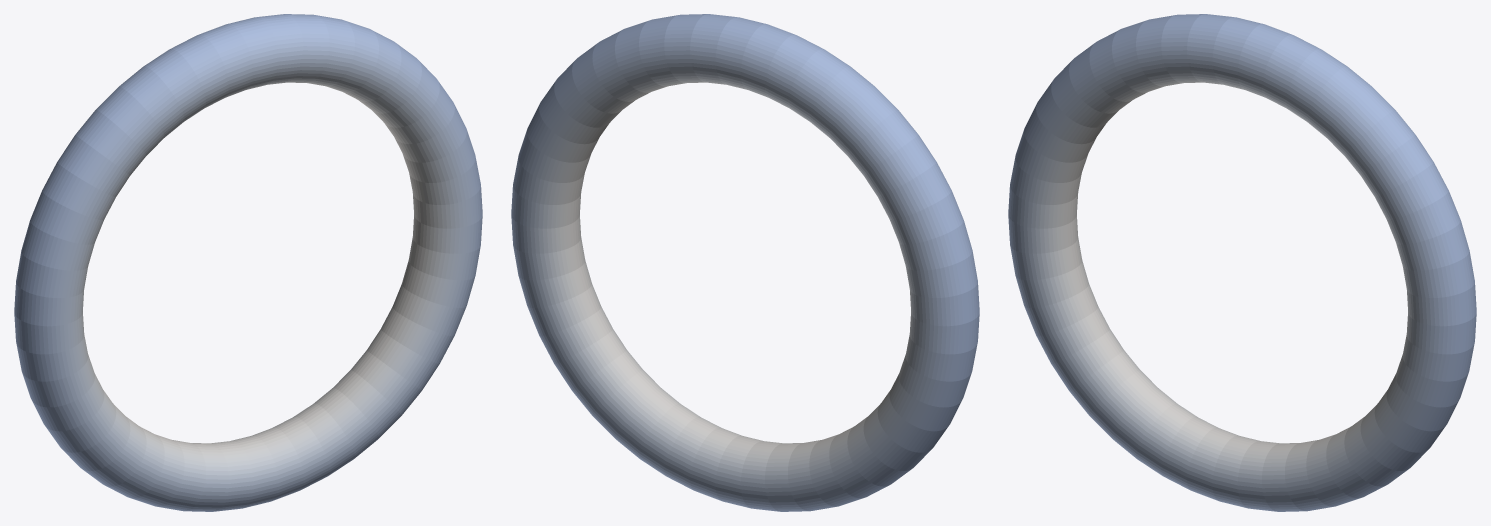
3 views of the same model, side by side, from view 1: azimuth 30°, elevation 25°; view 2: azimuth 150°, elevation 25°; view 3: azimuth 330°, elevation 25° (orthographic).
Visible parts, largest first — view 1: world; view 2: world; view 3: world.
Part boxes in pixels (x1=…): world: x1=14, y1=14, x2=482, y2=511; world: x1=511, y1=14, x2=979, y2=511; world: x1=1008, y1=14, x2=1476, y2=511.
Bounding box in the file's own units: 29.87 × 29.81 × 3.86.
